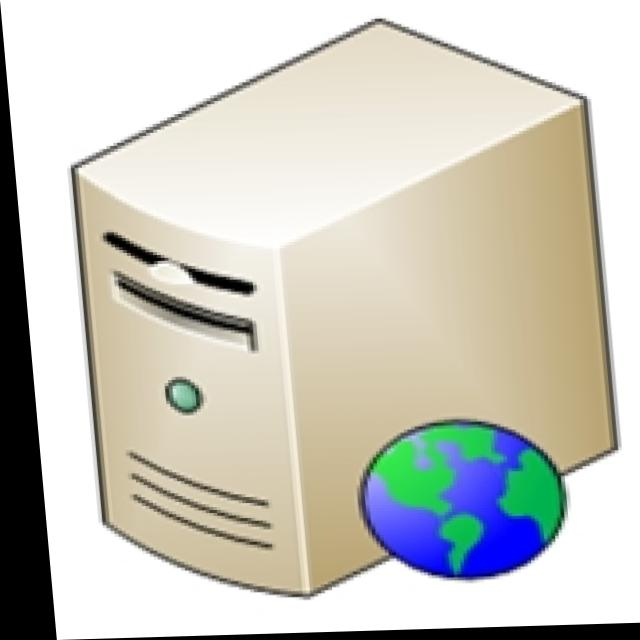WebServer: (14, 0, 640, 632)
